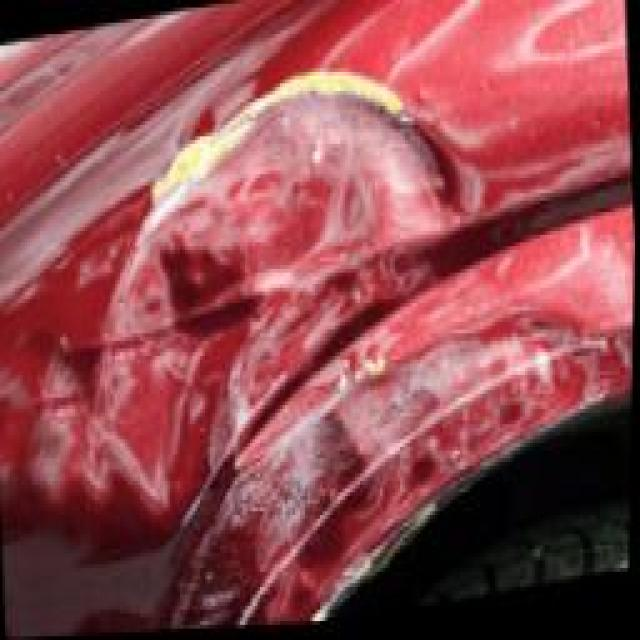Fender: (48, 4, 619, 638)
